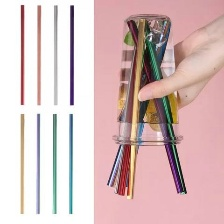drinking_straw: (64, 3, 77, 107), (17, 2, 29, 106), (16, 112, 28, 215), (33, 112, 44, 216), (65, 112, 75, 216), (34, 2, 43, 108), (50, 111, 59, 216), (51, 3, 60, 107)
glass: (108, 11, 186, 149)
